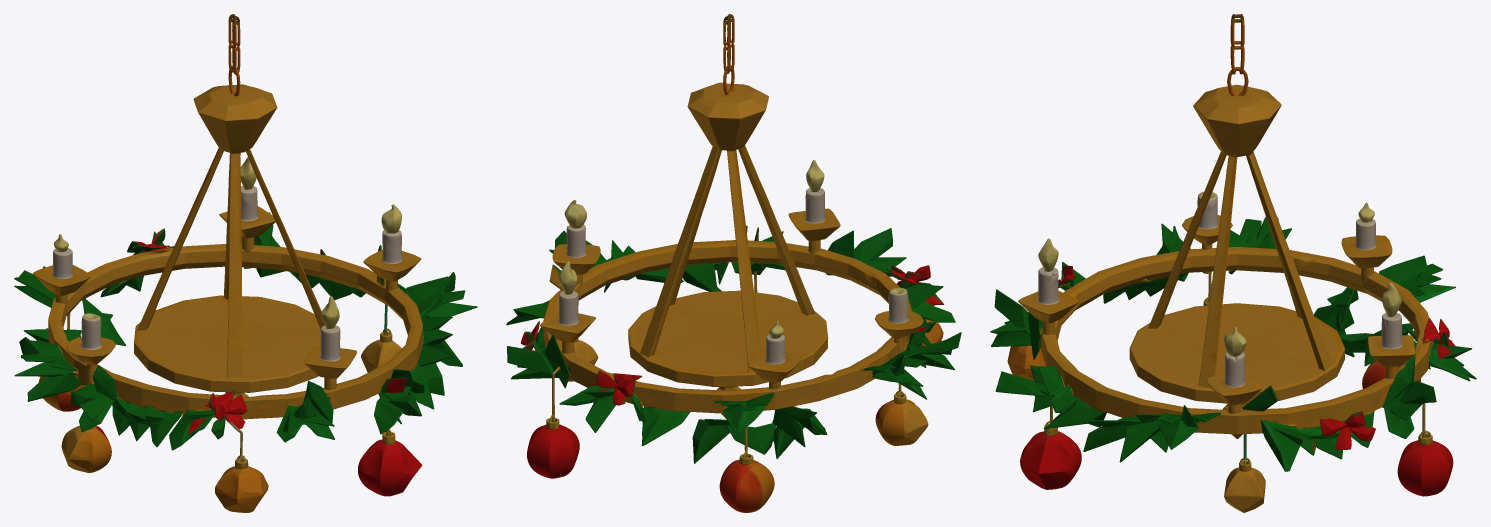
The model's file is tripo_convert_5c18477a-0aae-4ce7-b702-09a69ad511cb.fbx.
3 renders of one model, left to right at view 1: azimuth 30°, elevation 25°; view 2: azimuth 150°, elevation 25°; view 3: azimuth 270°, elevation 25°, orthographic. The views are drawn at different scales.
Visible parts, largest first — view 1: tripo_node_5c18477a; view 2: tripo_node_5c18477a; view 3: tripo_node_5c18477a.
Part boxes in pixels (x1=…): tripo_node_5c18477a: x1=14, y1=14, x2=477, y2=512; tripo_node_5c18477a: x1=506, y1=14, x2=961, y2=512; tripo_node_5c18477a: x1=990, y1=14, x2=1476, y2=512.
Size of the model in its own units: 0.9806 by 0.9549 by 0.9558.
Materials: 1 (1 with a texture image).
